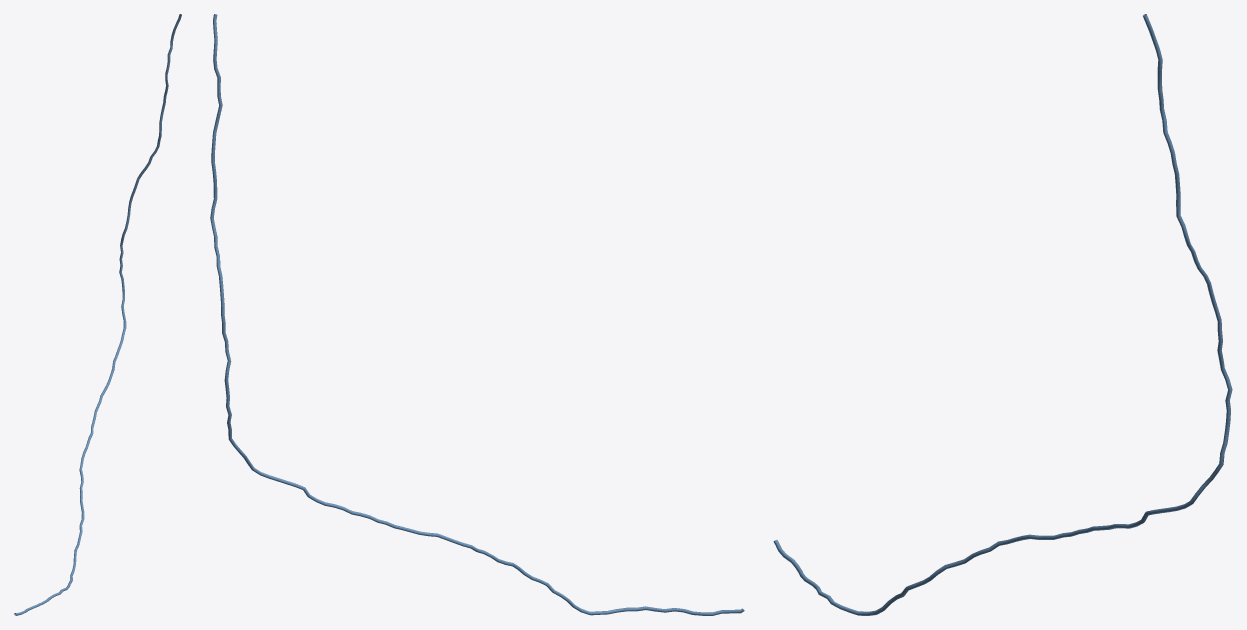
The model's file is sweep153.fbx.
3 views of the same model, side by side, from view 1: azimuth 30°, elevation 25°; view 2: azimuth 150°, elevation 25°; view 3: azimuth 270°, elevation 25° (orthographic). The views are drawn at different scales.
Visible parts, largest first — view 1: sweep153; view 2: sweep153; view 3: sweep153.
Boxes of the visible parts, bbox=[...] form: sweep153: bbox=[14, 14, 181, 615]; sweep153: bbox=[210, 14, 744, 615]; sweep153: bbox=[773, 14, 1232, 615].
Bounding box in the file's own units: 2.39 × 3.75 × 2.05.
